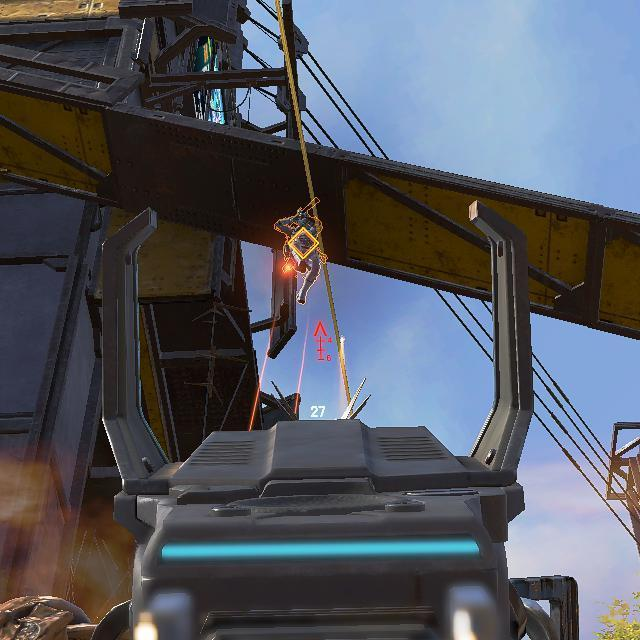avatar: (273, 197, 328, 305)
object: (286, 227, 319, 259)
